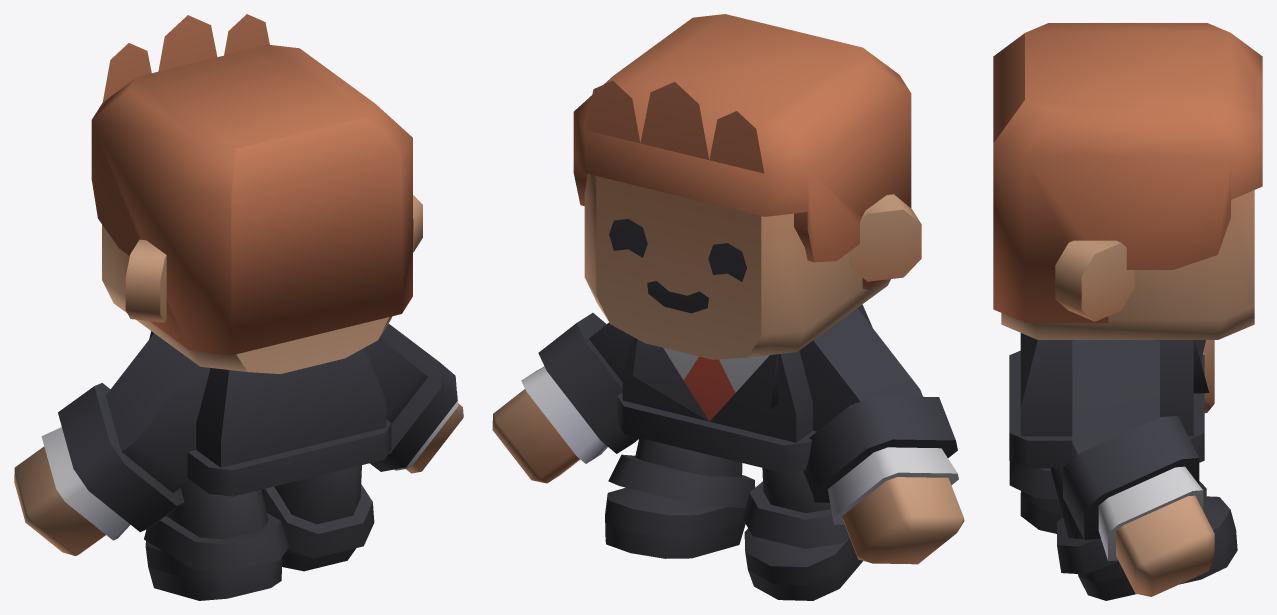
The model's file is hand_2_w2.fbx.
3 views of the same model, side by side, from view 1: azimuth 30°, elevation 25°; view 2: azimuth 150°, elevation 25°; view 3: azimuth 270°, elevation 25° (orthographic). The views are drawn at different scales.
Visible parts, largest first — view 1: body-mesh; view 2: body-mesh; view 3: body-mesh.
Part boxes in pixels (x1,y1,x2,y2): body-mesh: (14, 14, 463, 600); body-mesh: (492, 14, 964, 600); body-mesh: (993, 23, 1262, 600).
Size of the model in its own units: 0.889 by 1 by 0.4552.
